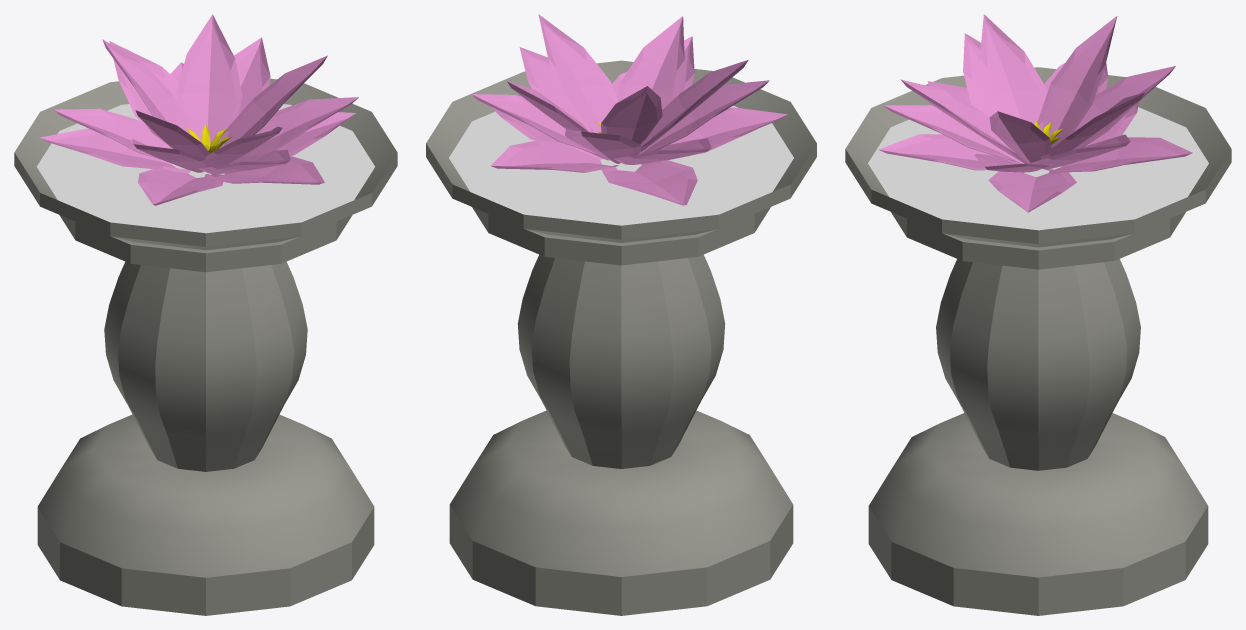
The model's file is McGuffin_Model_02.fbx.
3 renders of one model, left to right at view 1: azimuth 30°, elevation 25°; view 2: azimuth 150°, elevation 25°; view 3: azimuth 270°, elevation 25°, orthographic.
Visible parts, largest first — view 1: polySurface60, polySurface73, polySurface67, polySurface77, polySurface65, polySurface61, polySurface53, polySurface76, polySurface55, polySurface64, polySurface63, polySurface68 (+5 smaller); view 2: polySurface60, polySurface73, polySurface77, polySurface71, polySurface72, polySurface53, polySurface65, polySurface74, polySurface70, polySurface55, polySurface63, polySurface61 (+5 smaller); view 3: polySurface60, polySurface73, polySurface70, polySurface65, polySurface72, polySurface58, polySurface64, polySurface69, polySurface68, polySurface71, polySurface77, polySurface67 (+3 smaller).
Part boxes in pixels (x1,y1,x2,y2): polySurface60: [14, 78, 397, 615]; polySurface73: [37, 104, 374, 233]; polySurface67: [176, 14, 242, 143]; polySurface77: [218, 55, 327, 148]; polySurface65: [102, 39, 198, 137]; polySurface61: [241, 97, 358, 156]; polySurface53: [39, 128, 176, 168]; polySurface76: [53, 108, 168, 158]; polySurface55: [138, 166, 224, 205]; polySurface64: [204, 156, 324, 184]; polySurface63: [234, 37, 270, 115]; polySurface68: [109, 41, 178, 148]; polySurface60: [426, 60, 816, 615]; polySurface73: [449, 105, 793, 225]; polySurface77: [538, 14, 618, 133]; polySurface71: [617, 16, 684, 109]; polySurface72: [490, 141, 618, 172]; polySurface53: [601, 160, 697, 205]; polySurface65: [601, 86, 662, 144]; polySurface74: [638, 80, 769, 154]; polySurface70: [637, 60, 748, 154]; polySurface55: [664, 107, 787, 160]; polySurface63: [471, 94, 609, 160]; polySurface61: [519, 47, 582, 123]; polySurface60: [845, 67, 1231, 615]; polySurface73: [868, 107, 1208, 230]; polySurface70: [980, 14, 1046, 124]; polySurface65: [1037, 16, 1117, 147]; polySurface72: [1045, 137, 1192, 172]; polySurface58: [988, 171, 1076, 212]; polySurface64: [878, 134, 992, 170]; polySurface69: [883, 105, 1022, 163]; polySurface68: [1072, 66, 1175, 150]; polySurface71: [900, 79, 1028, 163]; polySurface77: [989, 111, 1051, 163]; polySurface67: [1040, 92, 1144, 159].
Bounding box in the file's own units: 3.11 × 4.41 × 3.11.
